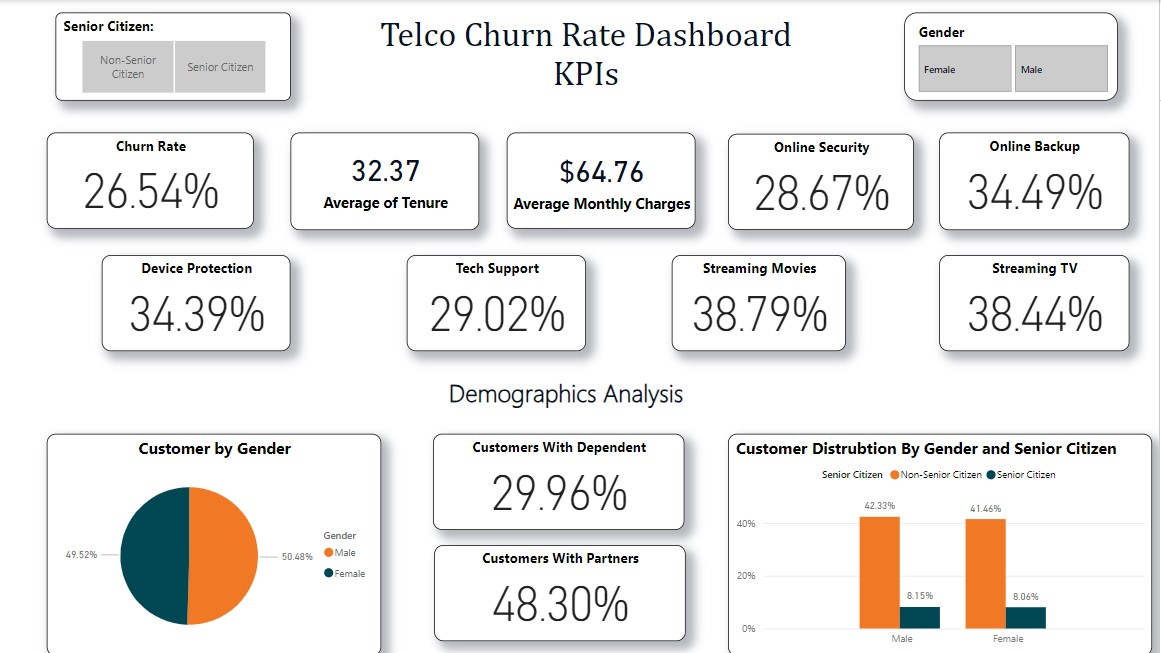

The page's visual inventory and layout, read from the dashboard file:
{"tool":"powerbi","page":{"name":"Page 1","canvas":[1280,720],"ordinal":0},"visuals":[{"type":"advancedSlicerVisual","fields":{"Values":["Telco_Churn.Gender"]},"box":[1000,14.3,234.3,97.1],"z":0},{"type":"slicer","title":"Senior Citizen:","fields":{"Values":["Telco_Churn.Senior_Citizen1"]},"box":[68.6,14.3,258.6,97.1],"z":1000},{"type":"kpi","title":"Churn Rate","fields":{"TrendLine":["Telco_Churn.Churn"],"Indicator":["CountNonNull(Telco_Churn.Customer_ID)"]},"box":[58.6,145.7,227.1,105.7],"z":2000},{"type":"textbox","box":[380,14.3,541.4,97.1],"z":3000},{"type":"card","title":"Average Tenure","fields":{"Values":["Avg(Telco_Churn.Tenure)"]},"box":[327.1,145.7,207.1,107.1],"z":4000},{"type":"card","fields":{"Values":["Avg(Telco_Churn.Monthly_Charges)"]},"box":[564.3,145.7,207.1,105.7],"z":5000},{"type":"kpi","title":"Online Security","fields":{"Indicator":["CountNonNull(Telco_Churn.Customer_ID)"],"TrendLine":["Telco_Churn.Online_Security"]},"box":[807.1,147.1,204.3,105.7],"z":6000},{"type":"kpi","title":"Online Backup","fields":{"TrendLine":["Telco_Churn.Online_Backup"],"Indicator":["CountNonNull(Telco_Churn.Customer_ID)"]},"box":[1038.6,145.7,208.6,107.1],"z":7000},{"type":"kpi","title":"Device Protection","fields":{"TrendLine":["Telco_Churn.Device_Protection"],"Indicator":["CountNonNull(Telco_Churn.Customer_ID)"]},"box":[120,280,207.1,105.7],"z":8000},{"type":"kpi","title":"Tech Support","fields":{"TrendLine":["Telco_Churn.Tech_Support"],"Indicator":["CountNonNull(Telco_Churn.Customer_ID)"]},"box":[454.3,280,197.1,105.7],"z":9000},{"type":"kpi","title":"Streaming Movies","fields":{"TrendLine":["Telco_Churn.Streaming_Movies"],"Indicator":["CountNonNull(Telco_Churn.Customer_ID)"]},"box":[745.7,280,191.4,105.7],"z":10000},{"type":"kpi","title":"Streaming TV","fields":{"TrendLine":["Telco_Churn.Streaming_TV"],"Indicator":["CountNonNull(Telco_Churn.Customer_ID)"]},"box":[1038.6,280,208.6,105.7],"z":11000},{"type":"textbox","box":[495.7,407.1,288.6,57.1],"z":12000},{"type":"pieChart","fields":{"Category":["Telco_Churn.Gender1"],"Y":["CountNonNull(Telco_Churn.Customer_ID)"]},"box":[58.6,475.7,367.1,244.3],"z":13000},{"type":"clusteredColumnChart","title":"Customer Distrubtion By Gender and Senior Citizen","fields":{"Y":["CountNonNull(Telco_Churn.Customer_ID)"],"Series":["Telco_Churn.Senior_Citizen"],"Category":["Telco_Churn.Gender"]},"box":[807.1,475.7,465.7,244.3],"z":14000},{"type":"kpi","title":"Customers With Dependent","fields":{"TrendLine":["Telco_Churn.Dependent"],"Indicator":["CountNonNull(Telco_Churn.Customer_ID)"]},"box":[482.9,475.7,275.7,105.7],"z":15000},{"type":"kpi","title":"Customers With Partners","fields":{"TrendLine":["Telco_Churn.Partner"],"Indicator":["CountNonNull(Telco_Churn.Customer_ID)"]},"box":[484.3,598.6,275.7,105.7],"z":16000}]}

Visuals, with their boxes in screenshot pixels (x1, y1, x2, y2), scaled from the page's 1280x720 canvas onto the 1161x653 screenshot:
advancedSlicerVisual - Telco_Churn.Gender: region(907, 13, 1120, 101)
"Senior Citizen:" slicer: region(62, 13, 297, 101)
"Churn Rate" kpi: region(53, 132, 259, 228)
textbox: region(345, 13, 836, 101)
"Average Tenure" card: region(297, 132, 485, 229)
card - Avg(Telco_Churn.Monthly_Charges): region(512, 132, 700, 228)
"Online Security" kpi: region(732, 133, 917, 229)
"Online Backup" kpi: region(942, 132, 1131, 229)
"Device Protection" kpi: region(109, 254, 297, 350)
"Tech Support" kpi: region(412, 254, 591, 350)
"Streaming Movies" kpi: region(676, 254, 850, 350)
"Streaming TV" kpi: region(942, 254, 1131, 350)
textbox: region(450, 369, 711, 421)
pieChart - Telco_Churn.Gender1 x CountNonNull(Telco_Churn.Customer_ID): region(53, 431, 386, 652)
"Customer Distrubtion By Gender and Senior Citizen" clusteredColumnChart: region(732, 431, 1154, 652)
"Customers With Dependent" kpi: region(438, 431, 688, 527)
"Customers With Partners" kpi: region(439, 543, 689, 639)
